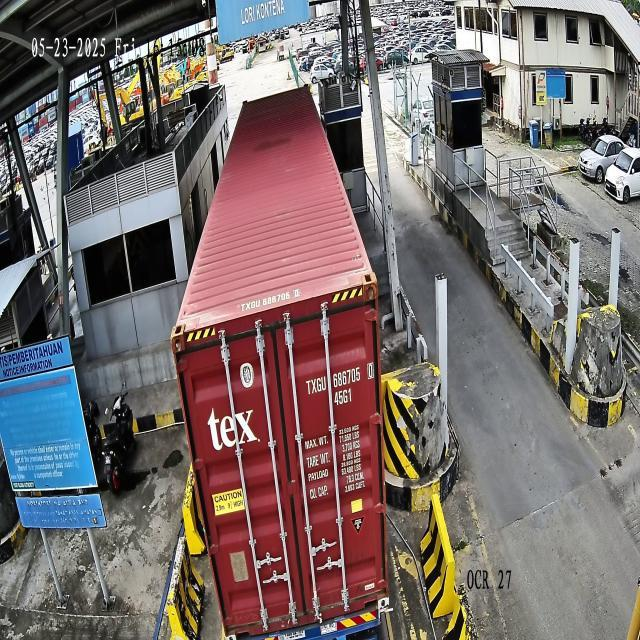ISO: (333, 388, 353, 407)
container_number: (304, 362, 374, 396)
